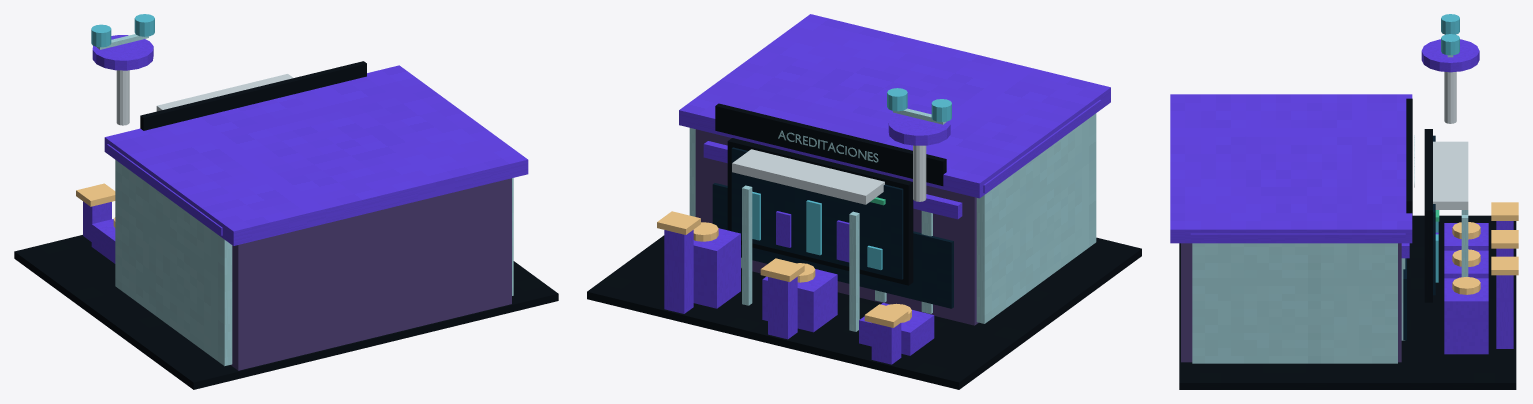
The model's file is acreditaciones-station.glb.
The picture shows the model from 3 angles, left to right: view 1: azimuth 30°, elevation 25°; view 2: azimuth 150°, elevation 25°; view 3: azimuth 270°, elevation 25°; orthographic projection. The views are drawn at different scales.
Visible parts, largest first — view 1: Batch_Acreditaciones_ROOT_JD_violet, AcademyMain, Batch_Acreditaciones_ROOT_JD_navy, Batch_Acreditaciones_ROOT_JD_sky, Batch_Acreditaciones_ROOT_JD_chrome, AINetworkHub, Batch_Acreditaciones_ROOT_JD_cyan, Batch_Acreditaciones_ROOT_JD_amber; view 2: Batch_Acreditaciones_ROOT_JD_violet, Batch_Acreditaciones_ROOT_JD_navy, Batch_Acreditaciones_ROOT_JD_sky, AIConsoleScreen, AcademyMain, EntranceGlass, Batch_Acreditaciones_ROOT_JD_chrome, Batch_Acreditaciones_ROOT_JD_amber, Batch_Acreditaciones_ROOT_JD_cyan, AINetworkHub; view 3: Batch_Acreditaciones_ROOT_JD_violet, Batch_Acreditaciones_ROOT_JD_sky, Batch_Acreditaciones_ROOT_JD_navy, Batch_Acreditaciones_ROOT_JD_chrome, Batch_Acreditaciones_ROOT_JD_amber, AcademyMain, AINetworkHub, Batch_Acreditaciones_ROOT_JD_cyan, EntranceGlass.
Boxes of the visible parts, box(x1,y1,x2,y2) form: Batch_Acreditaciones_ROOT_JD_violet: box(83, 65, 528, 263); AcademyMain: box(231, 178, 511, 370); Batch_Acreditaciones_ROOT_JD_navy: box(14, 61, 558, 389); Batch_Acreditaciones_ROOT_JD_sky: box(97, 34, 513, 366); Batch_Acreditaciones_ROOT_JD_chrome: box(116, 70, 293, 125); AINetworkHub: box(92, 35, 153, 70); Batch_Acreditaciones_ROOT_JD_cyan: box(91, 14, 154, 47); Batch_Acreditaciones_ROOT_JD_amber: box(76, 183, 115, 227); Batch_Acreditaciones_ROOT_JD_violet: box(664, 14, 1110, 364); Batch_Acreditaciones_ROOT_JD_navy: box(587, 103, 1141, 389); Batch_Acreditaciones_ROOT_JD_sky: box(689, 108, 1096, 331); AIConsoleScreen: box(731, 147, 903, 279); AcademyMain: box(695, 129, 978, 325); EntranceGlass: box(712, 183, 953, 308); Batch_Acreditaciones_ROOT_JD_chrome: box(732, 145, 926, 204); Batch_Acreditaciones_ROOT_JD_amber: box(657, 211, 911, 327); Batch_Acreditaciones_ROOT_JD_cyan: box(752, 88, 951, 270); AINetworkHub: box(888, 109, 950, 145); Batch_Acreditaciones_ROOT_JD_violet: box(1170, 94, 1513, 354); Batch_Acreditaciones_ROOT_JD_sky: box(1192, 55, 1468, 363); Batch_Acreditaciones_ROOT_JD_navy: box(1179, 98, 1516, 389); Batch_Acreditaciones_ROOT_JD_chrome: box(1433, 72, 1468, 209); Batch_Acreditaciones_ROOT_JD_amber: box(1452, 202, 1518, 294); AcademyMain: box(1181, 243, 1401, 362); AINetworkHub: box(1421, 39, 1479, 72); Batch_Acreditaciones_ROOT_JD_cyan: box(1435, 14, 1459, 282); EntranceGlass: box(1403, 258, 1406, 340).
Size of the model in its own units: 10.4 by 6.62 by 9.15.
Materials: 9 (4 with a texture image).
